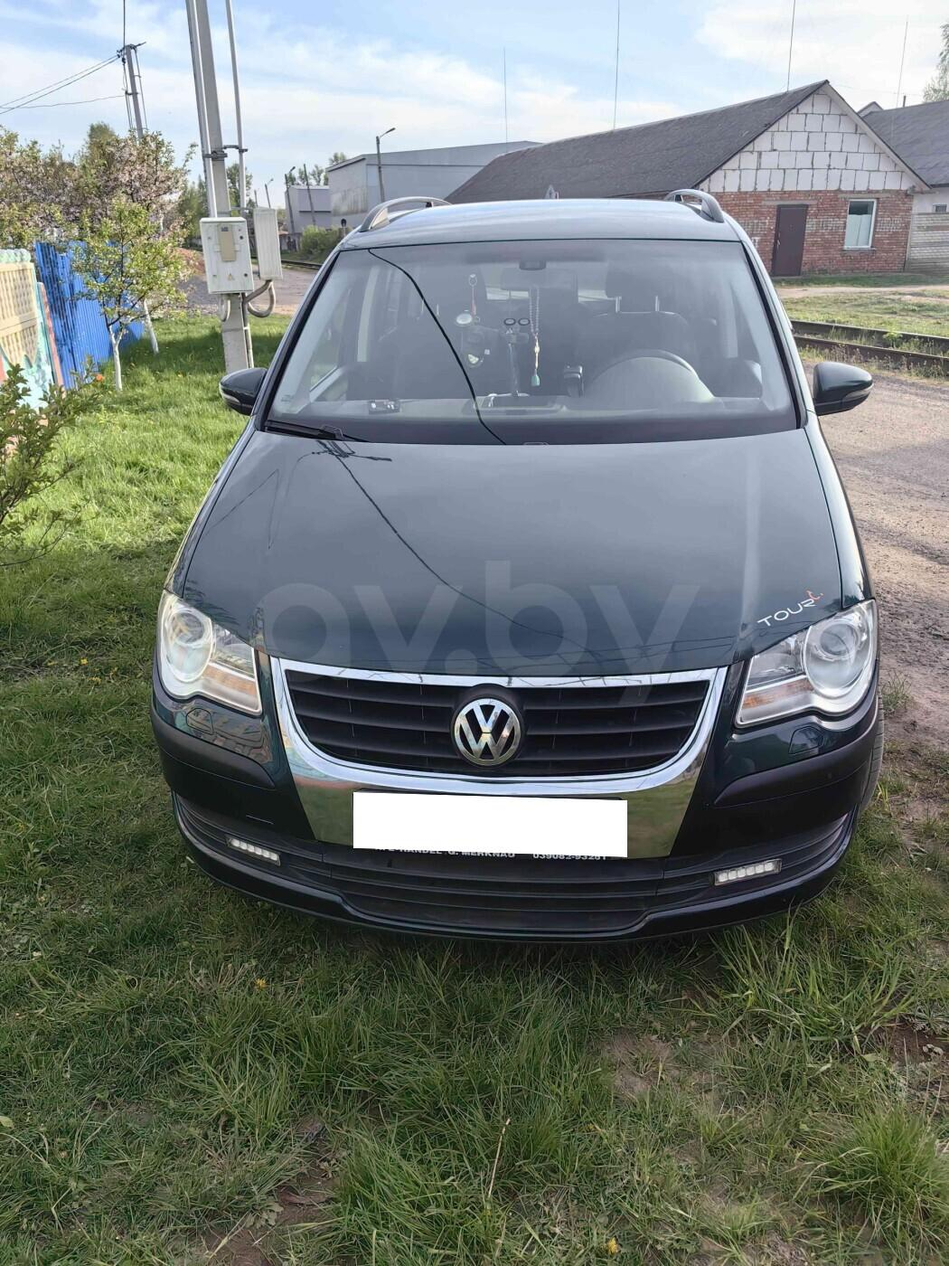Touran_2006-2010: (139, 186, 875, 957)
